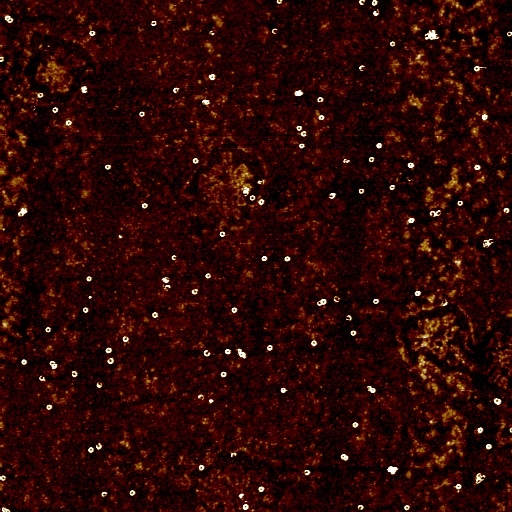-1: (423, 28, 441, 42), (480, 235, 495, 251), (384, 464, 401, 477), (47, 358, 59, 372), (475, 471, 486, 486), (17, 206, 30, 218), (236, 348, 247, 362), (370, 8, 383, 18), (365, 384, 378, 394), (338, 452, 350, 462), (4, 14, 14, 25), (240, 185, 249, 197), (80, 84, 89, 95), (293, 89, 303, 98), (481, 112, 490, 122), (331, 294, 341, 303), (94, 380, 103, 390), (255, 178, 266, 186), (160, 276, 170, 284), (208, 29, 217, 37), (230, 450, 238, 459), (1, 506, 12, 512), (115, 231, 123, 239), (208, 397, 216, 405), (342, 158, 351, 165), (200, 99, 210, 105)
1/4: (441, 299, 448, 308)
2/4: (269, 25, 280, 36), (168, 253, 180, 263), (356, 63, 366, 73), (196, 394, 205, 403), (163, 285, 172, 292), (1, 55, 5, 63)
3/4: (327, 191, 338, 202), (387, 182, 398, 193), (301, 468, 313, 477), (37, 374, 47, 384), (435, 206, 442, 220), (427, 207, 435, 219), (99, 490, 109, 499), (203, 349, 212, 359), (190, 287, 200, 296), (502, 205, 510, 216), (314, 297, 322, 308), (95, 442, 104, 451), (172, 85, 180, 95), (355, 503, 365, 511), (105, 357, 115, 365), (149, 19, 158, 27), (345, 313, 352, 323), (122, 334, 129, 344), (37, 90, 43, 98), (1, 474, 7, 482), (275, 1, 284, 5), (357, 1, 364, 5)
4/4: (492, 395, 503, 408), (281, 253, 293, 264), (348, 327, 358, 339), (309, 338, 319, 349), (240, 501, 250, 512), (229, 305, 240, 315), (350, 420, 362, 429), (50, 105, 60, 115), (366, 155, 376, 165), (472, 162, 482, 172), (371, 297, 381, 307), (475, 425, 485, 435), (256, 484, 266, 494), (151, 310, 160, 321), (374, 141, 384, 150), (355, 187, 365, 196), (403, 502, 412, 512), (208, 71, 216, 82), (265, 342, 273, 353), (64, 118, 73, 127), (294, 123, 303, 132), (297, 142, 306, 151), (218, 230, 227, 239), (406, 161, 415, 170), (407, 216, 416, 225), (472, 64, 481, 73), (413, 289, 422, 298), (456, 198, 464, 208), (504, 29, 512, 39), (321, 296, 329, 306), (224, 347, 232, 357), (103, 163, 112, 171), (141, 201, 149, 210), (316, 113, 325, 121), (257, 198, 266, 206), (388, 40, 397, 48), (260, 254, 268, 263), (484, 442, 493, 450), (454, 481, 462, 490), (220, 370, 228, 379), (104, 346, 113, 354), (198, 464, 205, 474), (71, 369, 78, 379), (20, 357, 27, 367), (192, 157, 200, 165), (128, 490, 136, 498), (44, 326, 52, 334), (248, 193, 255, 202), (204, 272, 213, 279), (82, 305, 89, 314), (368, 1, 380, 6), (316, 95, 323, 103), (280, 386, 288, 393), (46, 403, 53, 411), (86, 275, 93, 283), (87, 446, 94, 454), (138, 110, 145, 117), (89, 29, 95, 36)
